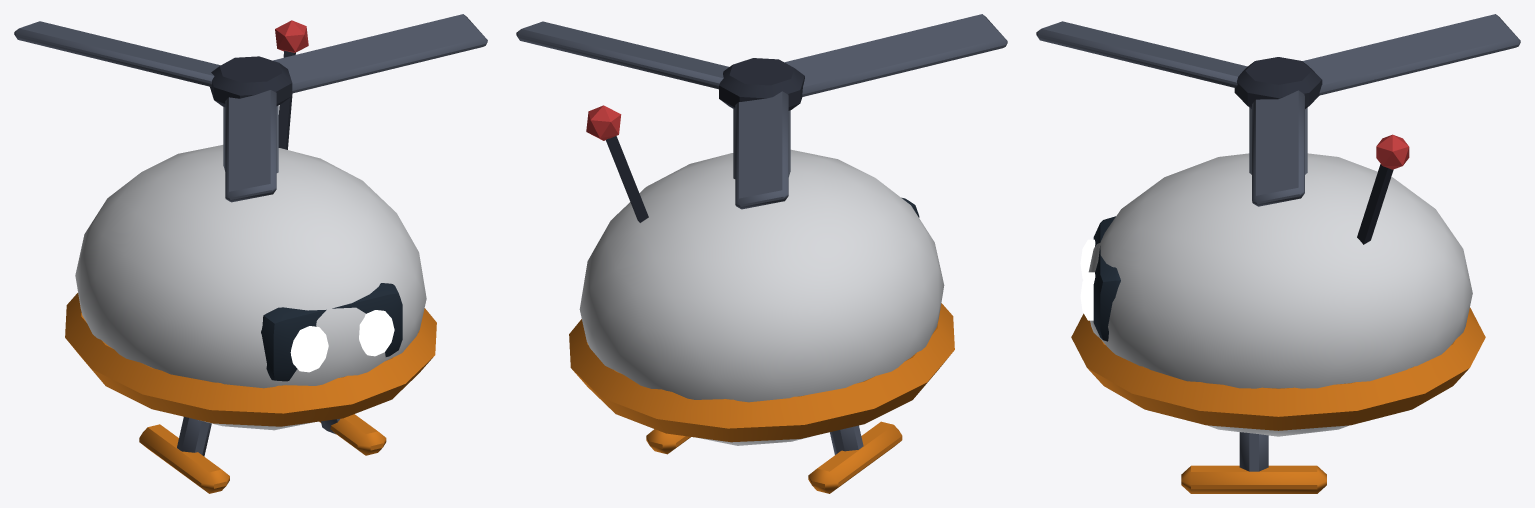
Rendered from p_drone.glb.
3 renders of one model, left to right at view 1: azimuth 30°, elevation 25°; view 2: azimuth 150°, elevation 25°; view 3: azimuth 270°, elevation 25°, orthographic. The views are drawn at different scales.
Parts seen in each view (by area): view 1: body, spin_rotor, eye_glow; view 2: body, spin_rotor; view 3: body, spin_rotor, eye_glow.
Part boxes in pixels (left/top/right/bottom): body: left=65, top=20, right=436, bottom=493; spin_rotor: left=14, top=14, right=487, bottom=202; eye_glow: left=290, top=310, right=394, bottom=372; body: left=569, top=105, right=954, bottom=493; spin_rotor: left=516, top=14, right=1007, bottom=209; body: left=1071, top=107, right=1485, bottom=493; spin_rotor: left=1036, top=14, right=1520, bottom=206; eye_glow: left=1080, top=239, right=1095, bottom=320.
Bounding box in the file's own units: 0.9371 × 0.865 × 0.9972.
